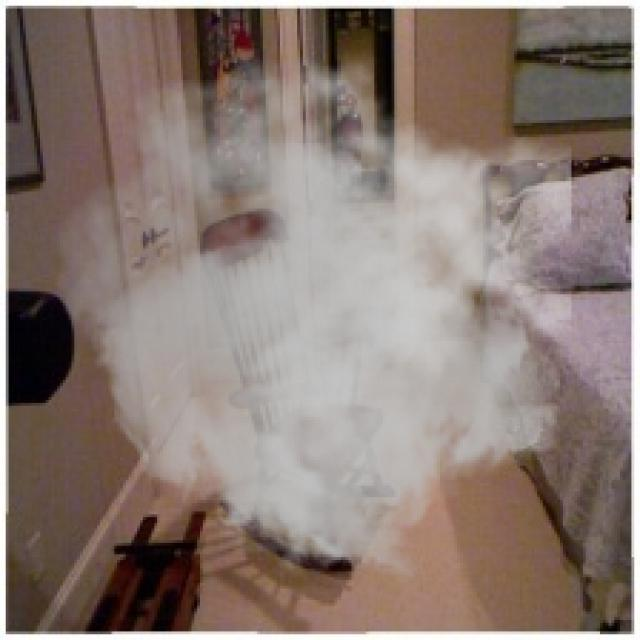smoke: (54, 43, 572, 586)
